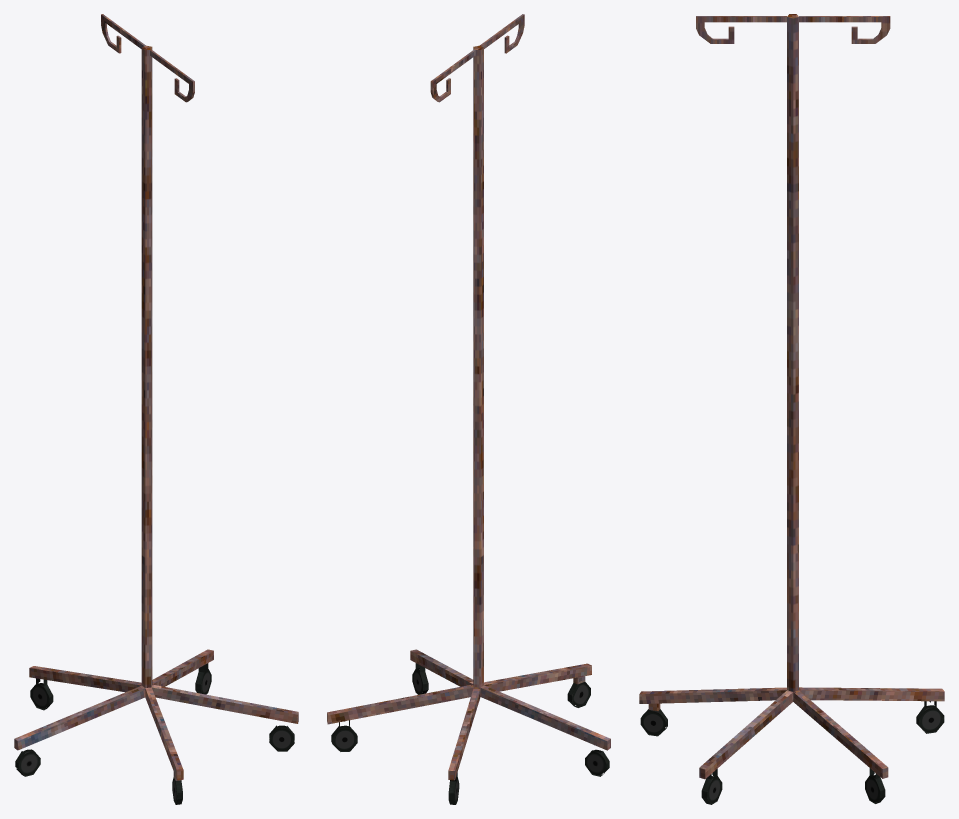
Rendered from SM_IVstand.fbx.
The picture shows the model from 3 angles, left to right: view 1: azimuth 30°, elevation 25°; view 2: azimuth 150°, elevation 25°; view 3: azimuth 270°, elevation 25°; orthographic projection. The views are drawn at different scales.
Parts seen in each view (by area): view 1: SM_IVstand; view 2: SM_IVstand; view 3: SM_IVstand.
Boxes of the visible parts, left/top/right/bottom form: SM_IVstand: left=14, top=14, right=298, bottom=804; SM_IVstand: left=327, top=14, right=610, bottom=804; SM_IVstand: left=639, top=14, right=944, bottom=804.
Bounding box in the file's own units: 71.1 × 197 × 74.
